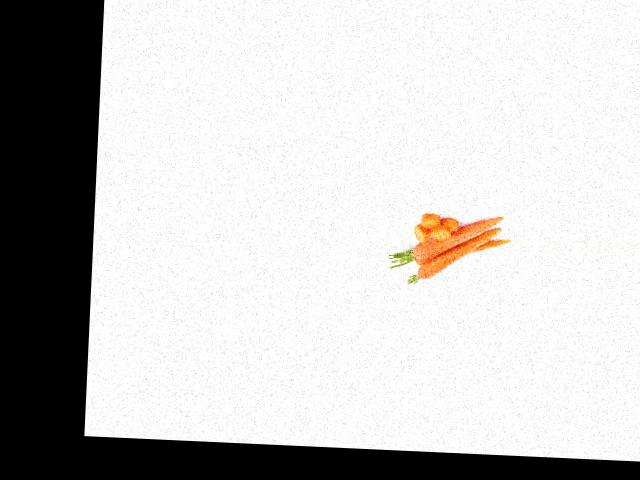carrot: (407, 209, 504, 263)
